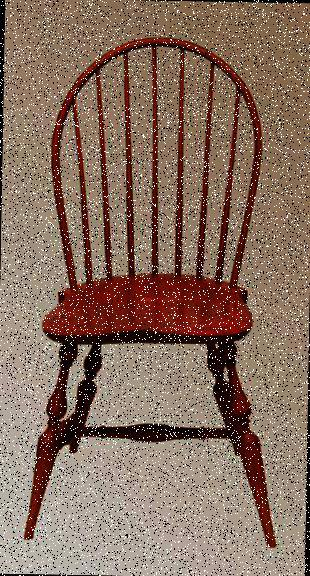Silla: (33, 38, 284, 544)
